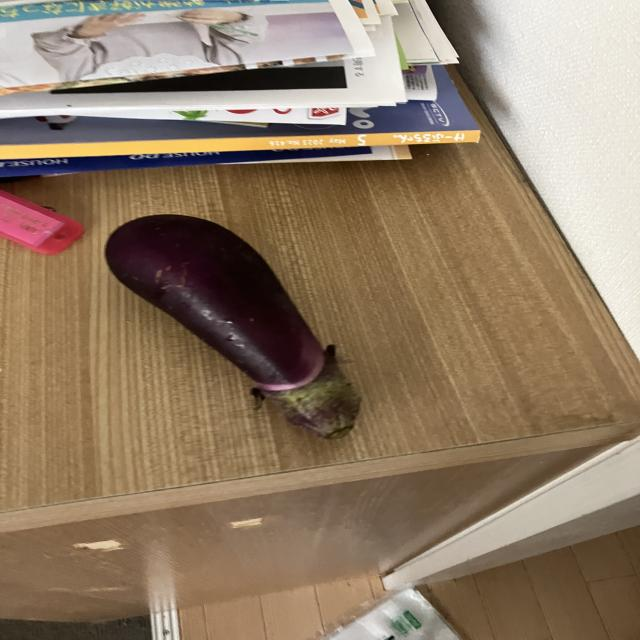eggplant: (102, 212, 366, 440)
